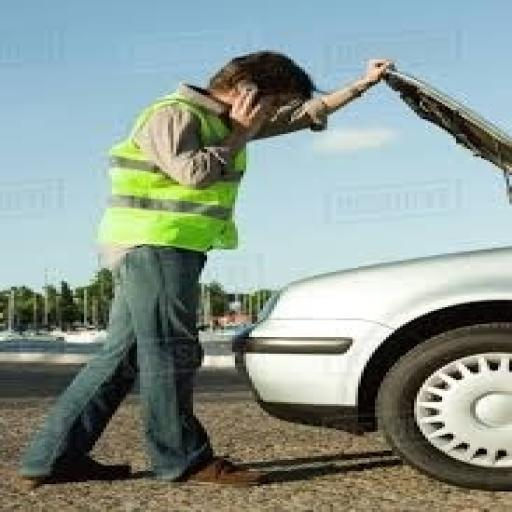calling: (14, 48, 394, 490)
